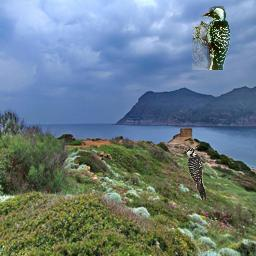Woodpecker: (192, 6, 230, 70), (186, 146, 207, 201)
